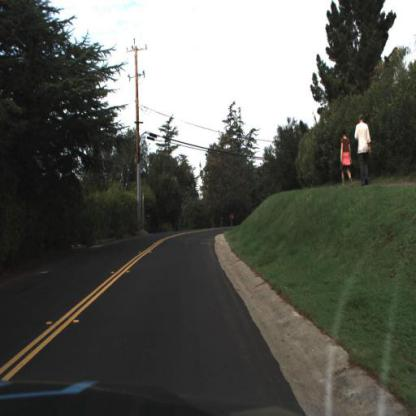pedestrian: (336, 124, 357, 192), (354, 114, 372, 190)
